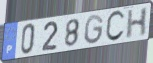0: (20, 23, 38, 56)
2: (42, 19, 60, 52)
8: (63, 17, 81, 49)
C: (105, 10, 127, 44)
G: (84, 14, 105, 46)
H: (125, 6, 150, 41)
